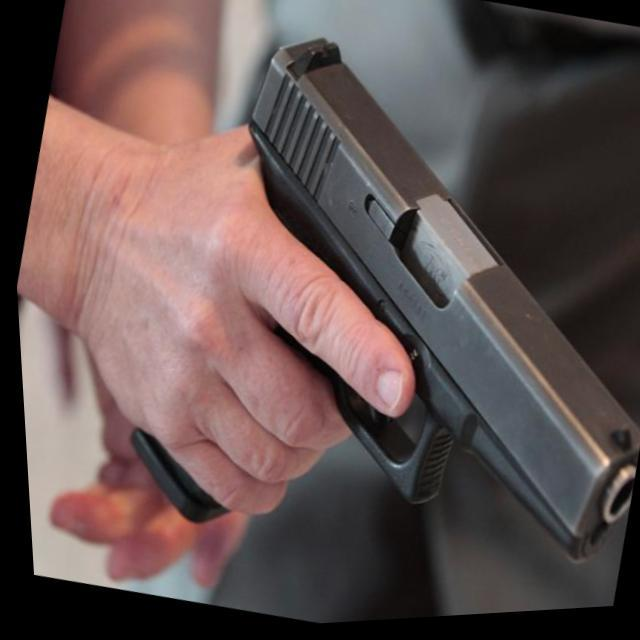weapon: (89, 0, 640, 623)
